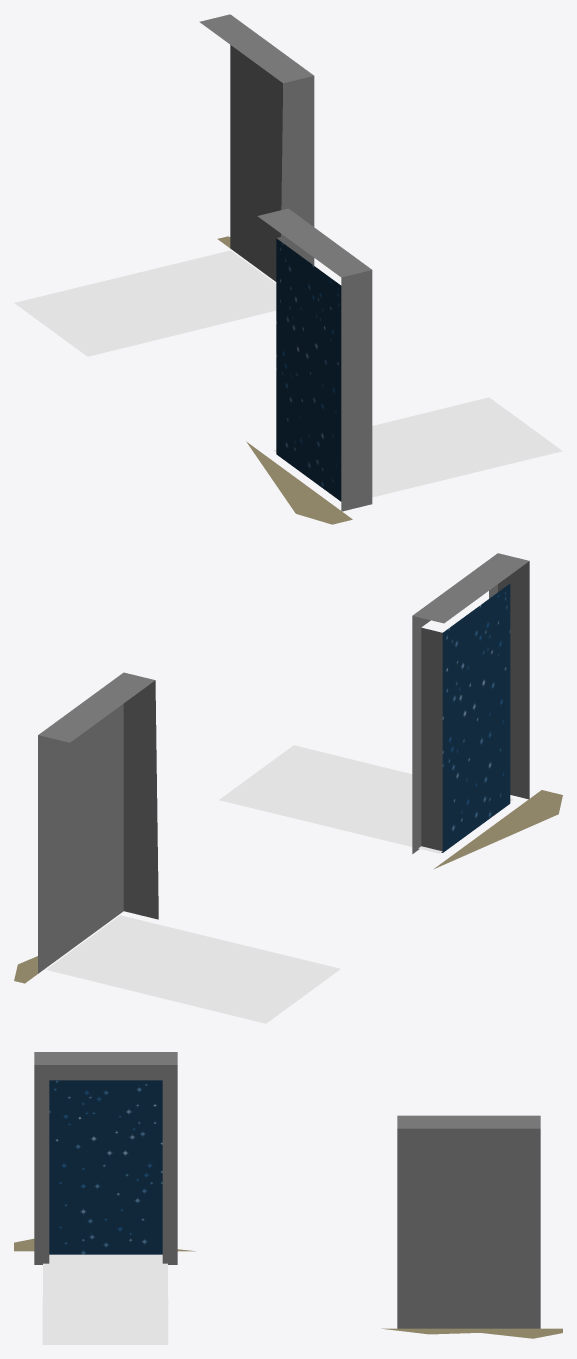
File: Portal_3.fbx
The picture shows the model from 3 angles, top to bottom: view 1: azimuth 30°, elevation 25°; view 2: azimuth 150°, elevation 25°; view 3: azimuth 270°, elevation 25°; orthographic projection. The views are drawn at different scales.
Visible parts, largest first — view 1: polySurface7605, polySurface7603; view 2: polySurface7603, polySurface7605; view 3: polySurface7605, polySurface7603.
Part boxes in pixels (box(x1,y1,x2,y2)): polySurface7605: box(246, 208, 562, 524); polySurface7603: box(14, 14, 314, 356); polySurface7603: box(14, 672, 340, 1023); polySurface7605: box(219, 553, 562, 869); polySurface7605: box(14, 1052, 195, 1344); polySurface7603: box(382, 1115, 562, 1338).
Bounding box in the file's own units: 142 × 121 × 300.
